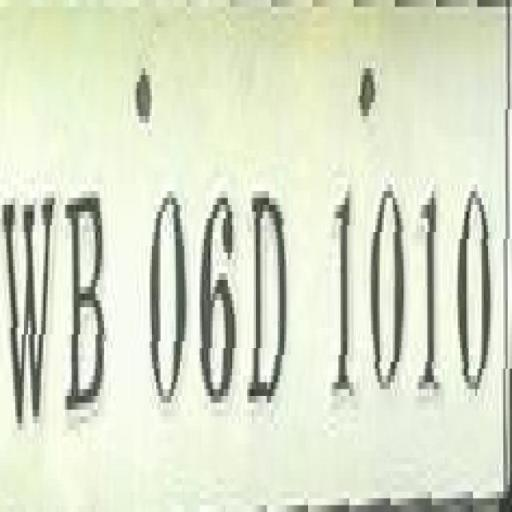number plate: (4, 6, 512, 498)
